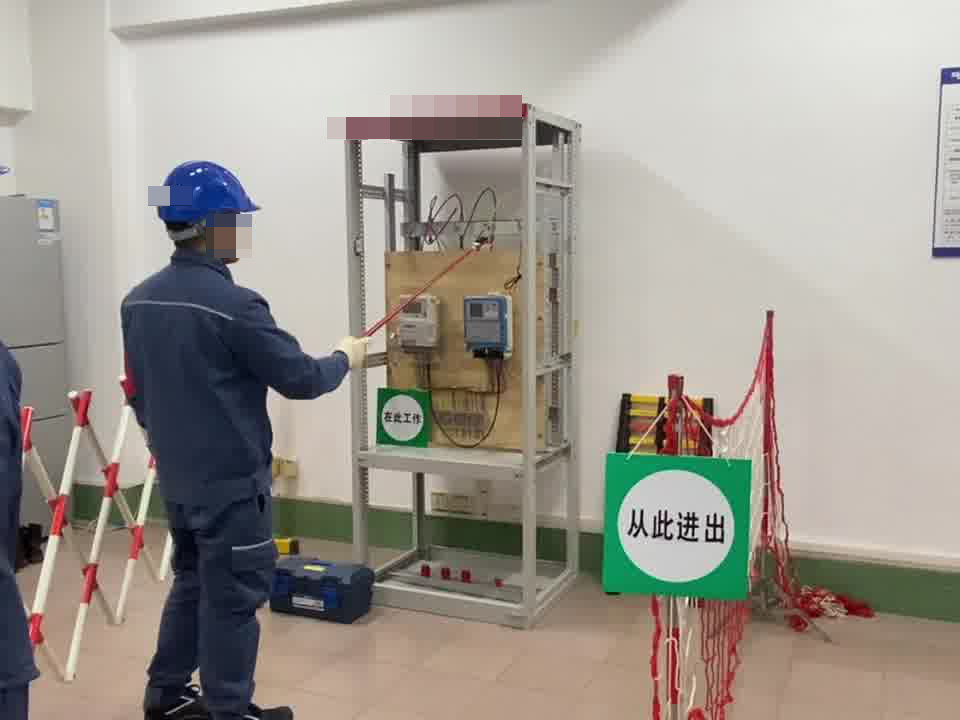downsuit: (149, 496, 276, 715)
halt: (157, 158, 261, 265)
inear: (196, 213, 235, 259)
intosign: (596, 445, 756, 608)
person: (114, 153, 371, 720)
testrod: (358, 233, 489, 341)
upsuit: (119, 257, 350, 503)
wglove: (333, 330, 373, 377)
worksign: (366, 380, 437, 454)
